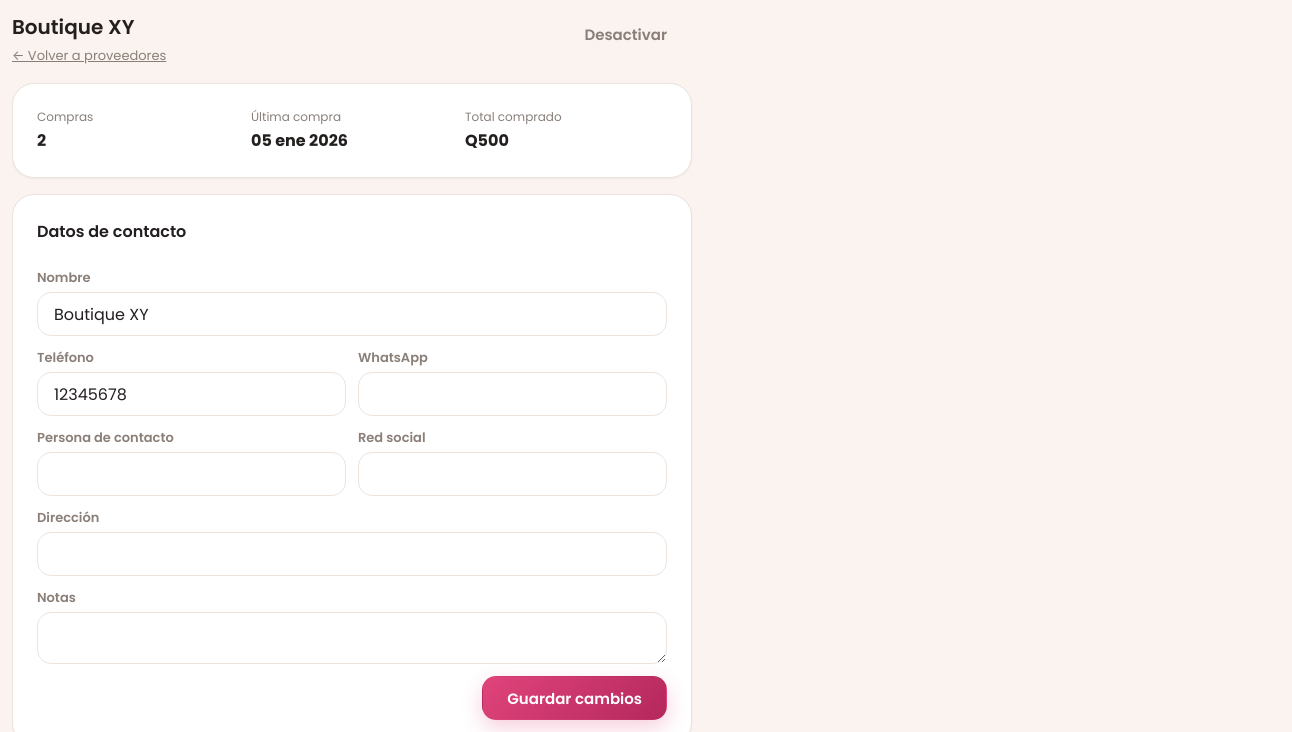
Test: SupplierDetailPage › pide confirmación antes de desactivar y conserva la identidad del proveedor
Expected: the field showing "Boutique XY" is shown, [37,292,667,336]
Click the button "Desactivar" at (626,34), box [559,12,692,56]
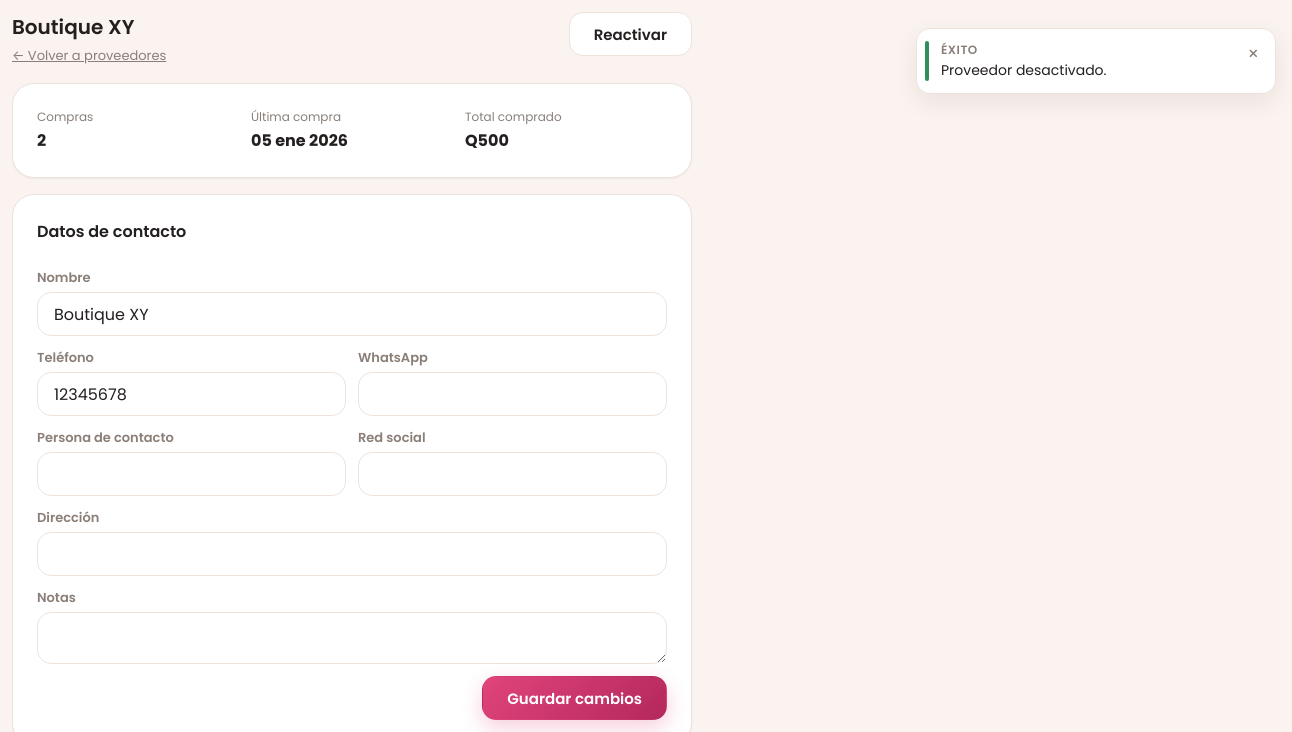
Expected: the button "Reactivar" is shown, [569,12,692,56]
